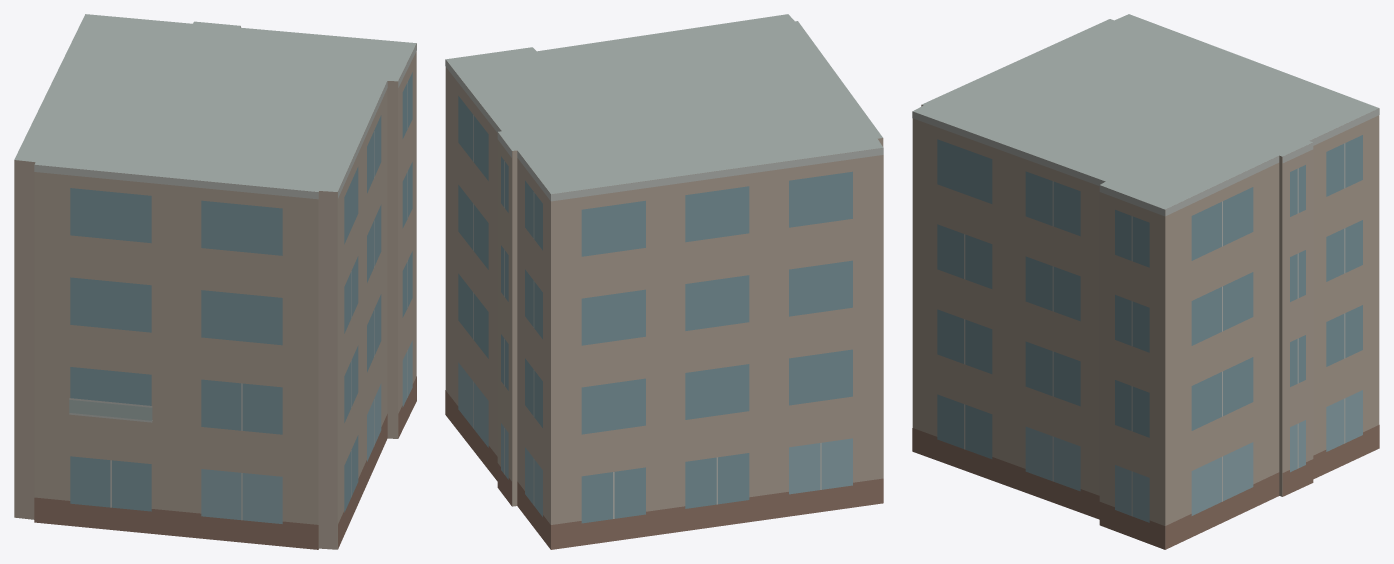
Rendered from survey-upis-32805245.glb.
The picture shows the model from 3 angles, left to right: view 1: azimuth 30°, elevation 25°; view 2: azimuth 150°, elevation 25°; view 3: azimuth 270°, elevation 25°; orthographic projection. The views are drawn at different scales.
Parts seen in each view (by area): view 1: survey-upis-32805245.tmp; view 2: survey-upis-32805245.tmp; view 3: survey-upis-32805245.tmp.
Part boxes in pixels (x1,y1,x2,y2): survey-upis-32805245.tmp: (14,14,416,549); survey-upis-32805245.tmp: (445,14,883,549); survey-upis-32805245.tmp: (912,14,1379,549).
Bounding box in the file's own units: 14.93 × 12.1 × 15.06.
